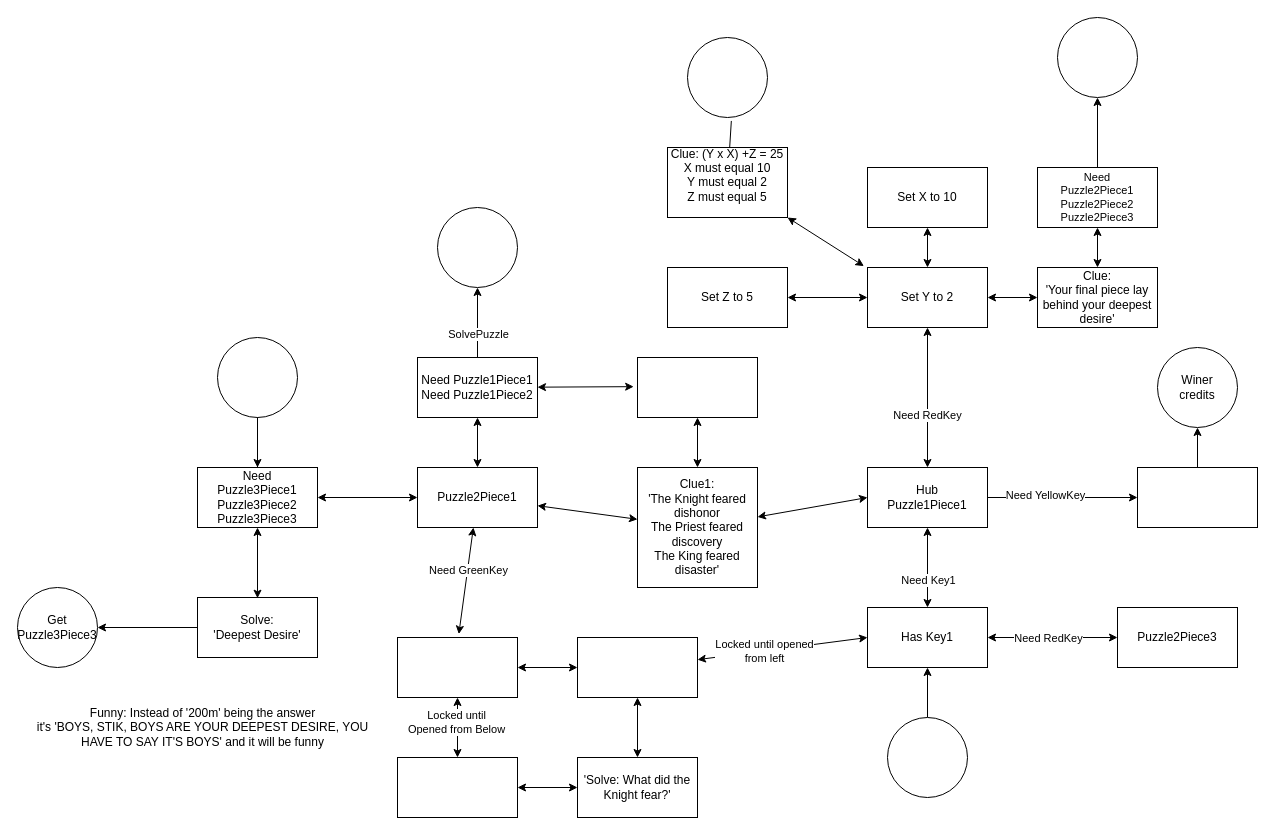
Image size: 1275x835. Some labels were removed from this diagram. Here are the shapes that lost their labels. From the top down, the centre of each, then its label:
At (x=727, y=77): "Get: Puzzle2Piece2".
At (x=1097, y=57): "Get GreenKey".
At (x=477, y=247): "Get RedKey".
At (x=257, y=377): "Get YellowKey".
At (x=697, y=387): "Puzzle3Piece1".
At (x=1197, y=497): "PuzzleBossFight BullshitIdk".
At (x=637, y=667): "Clue: 'Desire Ravine: 150m Lake Desire: 200m Pit of Desire: 120m'".
At (x=927, y=757): "Start".
At (x=457, y=787): "Puzzle3Piece2".
